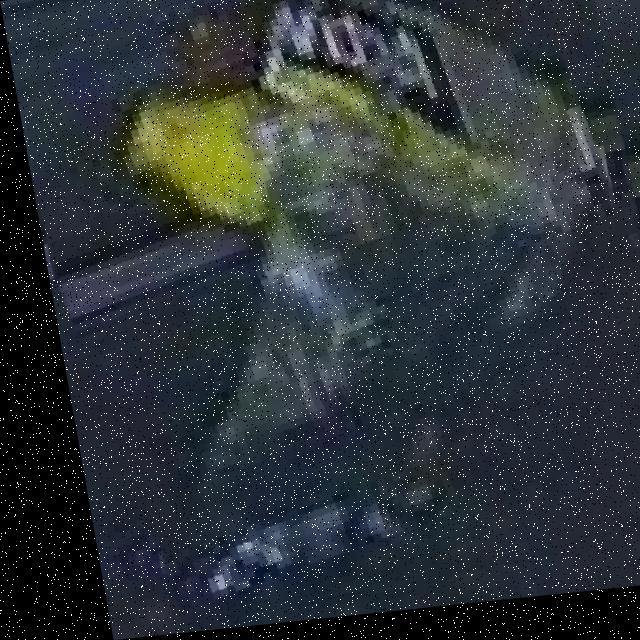litter: (4, 0, 640, 636)
